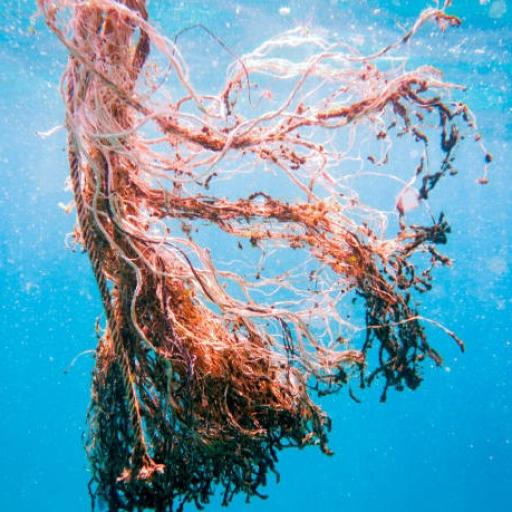net: (29, 0, 492, 512)
